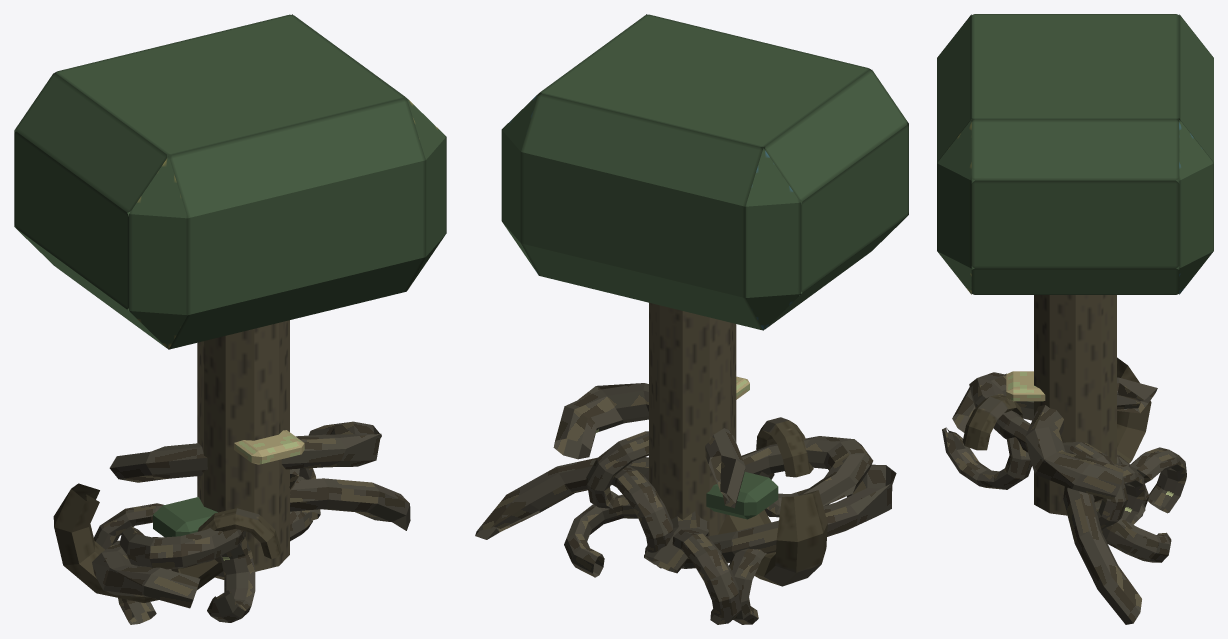
Rendered from SeichouTREE.fbx.
The picture shows the model from 3 angles, left to right: view 1: azimuth 30°, elevation 25°; view 2: azimuth 150°, elevation 25°; view 3: azimuth 270°, elevation 25°; orthographic projection. The views are drawn at different scales.
Visible parts, largest first — view 1: beveled_cuboid, cylinder, torus_11, torus_9, torus_3, torus_2, torus_1, torus_5, torus, beveled_cuboid_1, beveled_cuboid_2, torus_8 (+1 smaller); view 2: beveled_cuboid, cylinder, torus_11, torus_3, torus_9, torus_2, torus_1, torus_8, torus_10, torus_7, torus_4, beveled_cuboid_1 (+2 smaller); view 3: beveled_cuboid, cylinder, torus_11, torus_3, torus_5, torus_8, torus_7, torus_1, torus, torus_9, torus_4, torus_10 (+2 smaller).
Boxes of the visible parts, left/top/right/bottom form: beveled_cuboid: left=14, top=14, right=446, bottom=349; cylinder: left=197, top=320, right=289, bottom=571; torus_11: left=109, top=421, right=381, bottom=482; torus_9: left=53, top=483, right=223, bottom=602; torus_3: left=290, top=478, right=410, bottom=530; torus_2: left=92, top=537, right=224, bottom=608; torus_1: left=119, top=526, right=246, bottom=569; torus_5: left=207, top=534, right=255, bottom=622; torus: left=197, top=508, right=281, bottom=559; beveled_cuboid_1: left=153, top=497, right=217, bottom=537; beveled_cuboid_2: left=234, top=430, right=304, bottom=464; torus_8: left=94, top=503, right=163, bottom=549; beveled_cuboid: left=501, top=14, right=908, bottom=330; cylinder: left=649, top=302, right=736, bottom=536; torus_11: left=553, top=383, right=745, bottom=508; torus_3: left=475, top=457, right=708, bottom=573; torus_9: left=718, top=490, right=827, bottom=586; torus_2: left=657, top=464, right=896, bottom=568; torus_1: left=741, top=436, right=873, bottom=506; torus_8: left=672, top=528, right=741, bottom=624; torus_10: left=611, top=465, right=673, bottom=561; torus_7: left=564, top=494, right=638, bottom=577; torus_4: left=586, top=431, right=648, bottom=509; beveled_cuboid_1: left=706, top=472, right=778, bottom=519; beveled_cuboid: left=937, top=14, right=1213, bottom=294; cylinder: left=1034, top=295, right=1116, bottom=515; torus_11: left=1025, top=377, right=1157, bottom=499; torus_3: left=1063, top=486, right=1145, bottom=624; torus_5: left=942, top=427, right=1032, bottom=489; torus_8: left=1129, top=447, right=1186, bottom=513; torus_7: left=1094, top=502, right=1171, bottom=562; torus_1: left=969, top=372, right=1033, bottom=452; torus: left=962, top=394, right=1023, bottom=450; torus_9: left=1117, top=357, right=1151, bottom=463; torus_4: left=1063, top=441, right=1127, bottom=530; torus_10: left=1093, top=463, right=1145, bottom=523.
Size of the model in its own units: 177 by 245 by 125.
Materials: 6 (6 with a texture image).
